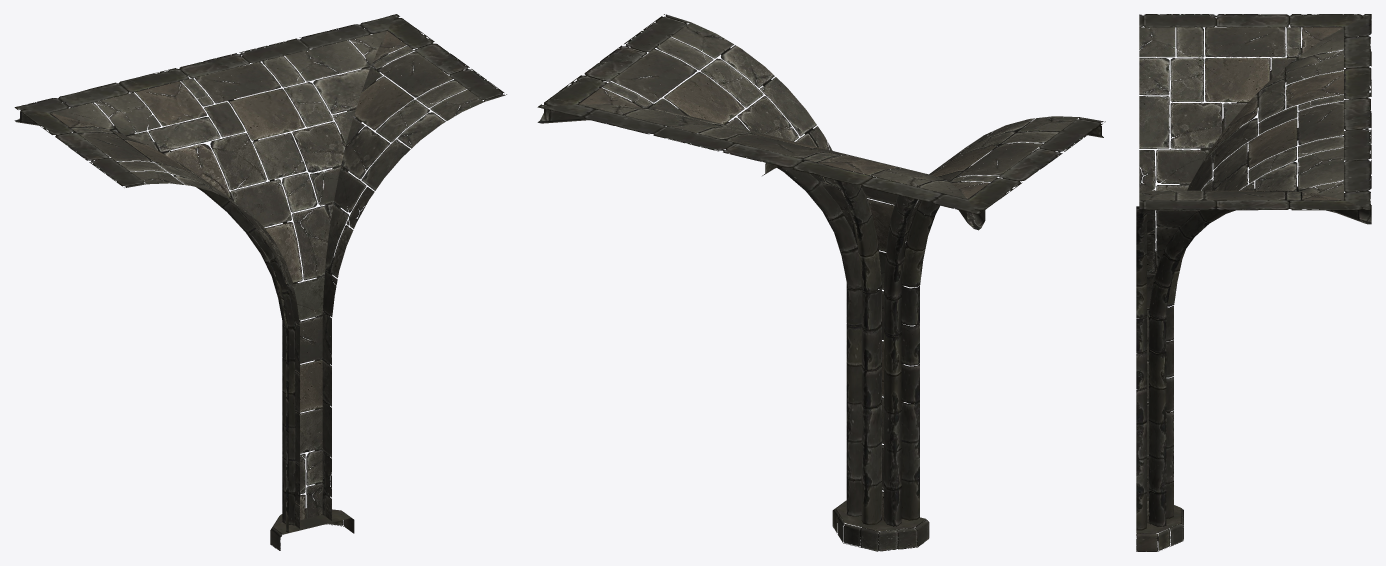
The picture shows the model from 3 angles, left to right: view 1: azimuth 30°, elevation 25°; view 2: azimuth 150°, elevation 25°; view 3: azimuth 270°, elevation 25°; orthographic projection. The views are drawn at different scales.
Visible parts, largest first — view 1: SM_Dowdun_Vaulted_Ceiling_12x6_01_LOD0; view 2: SM_Dowdun_Vaulted_Ceiling_12x6_01_LOD0; view 3: SM_Dowdun_Vaulted_Ceiling_12x6_01_LOD0.
Part boxes in pixels (x1,y1,x2,y2): SM_Dowdun_Vaulted_Ceiling_12x6_01_LOD0: (14, 14, 506, 550); SM_Dowdun_Vaulted_Ceiling_12x6_01_LOD0: (537, 14, 1105, 551); SM_Dowdun_Vaulted_Ceiling_12x6_01_LOD0: (1136, 14, 1371, 551).
Size of the model in its own units: 12 by 12 by 6.08.
Materials: 2 (2 with a texture image).
